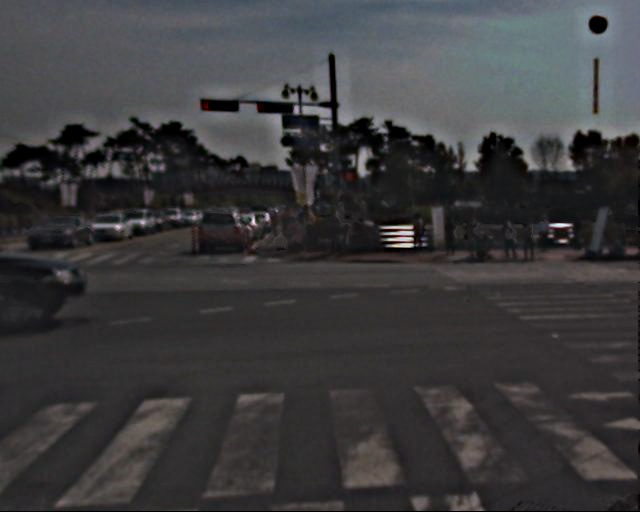person: (271, 203, 318, 246), (466, 214, 487, 265), (328, 206, 349, 256), (443, 218, 463, 266), (523, 220, 542, 266), (538, 215, 556, 260), (503, 221, 521, 266), (570, 208, 588, 253), (413, 213, 429, 253)
